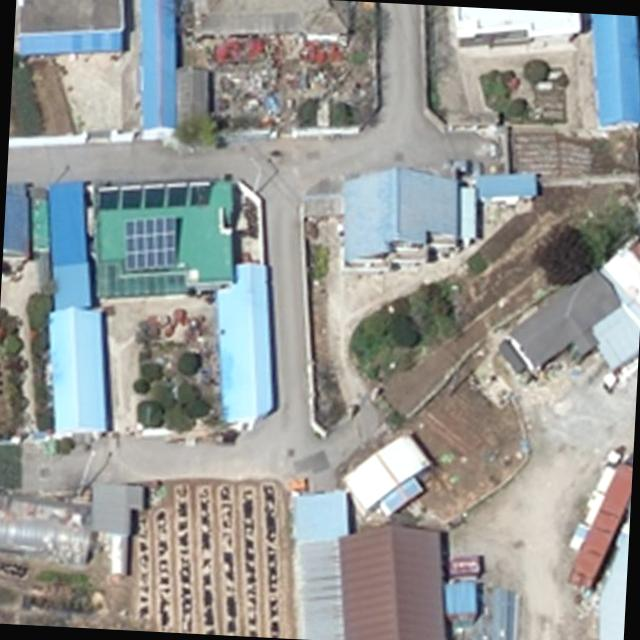solar: (124, 214, 182, 272)
